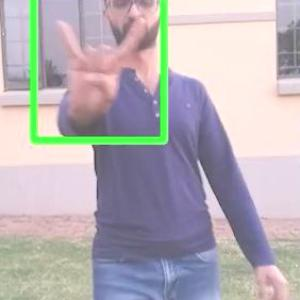takeoff-hand: (52, 6, 149, 122)
